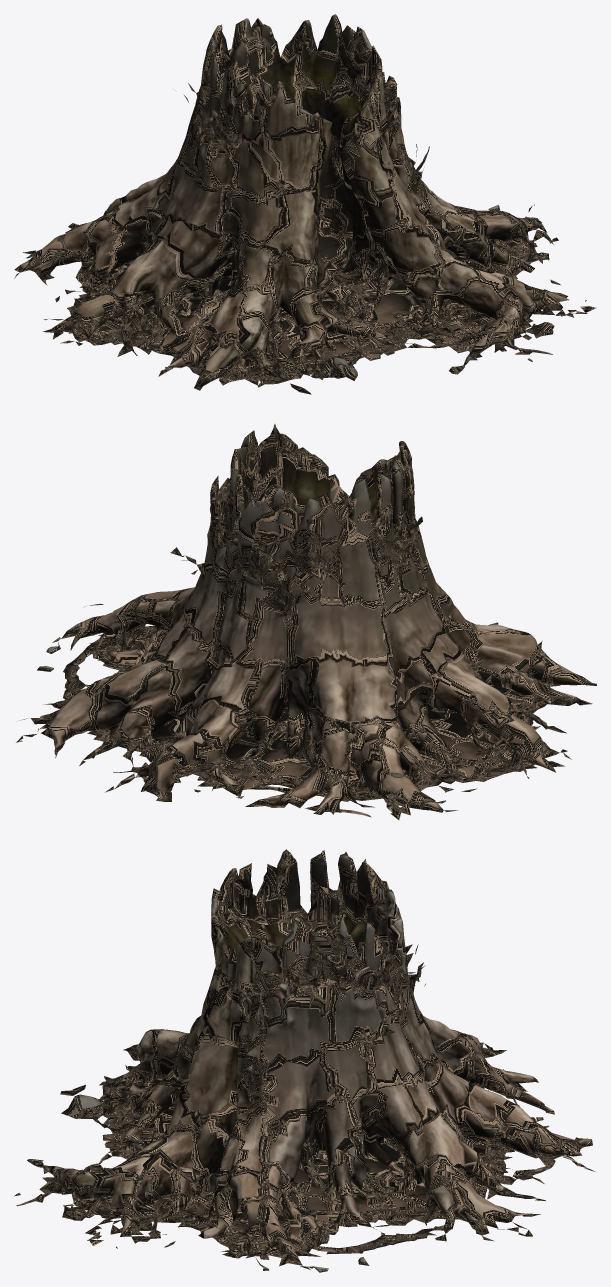
The picture shows the model from 3 angles, top to bottom: view 1: azimuth 30°, elevation 25°; view 2: azimuth 150°, elevation 25°; view 3: azimuth 270°, elevation 25°; orthographic projection. The views are drawn at different scales.
Size of the model in its own units: 1.88 by 0.9274 by 1.85.
Materials: 1 (1 with a texture image).
